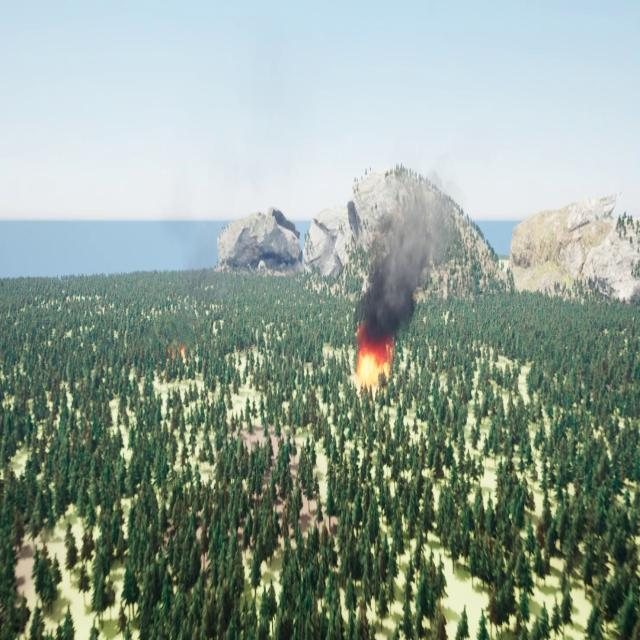fire: (352, 333, 397, 388), (166, 345, 188, 367)
smoke: (360, 168, 455, 331)
